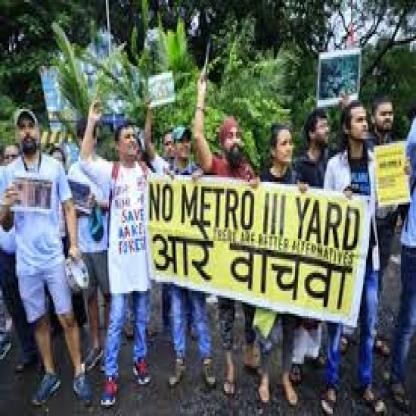BANNER: (147, 177, 369, 327)
